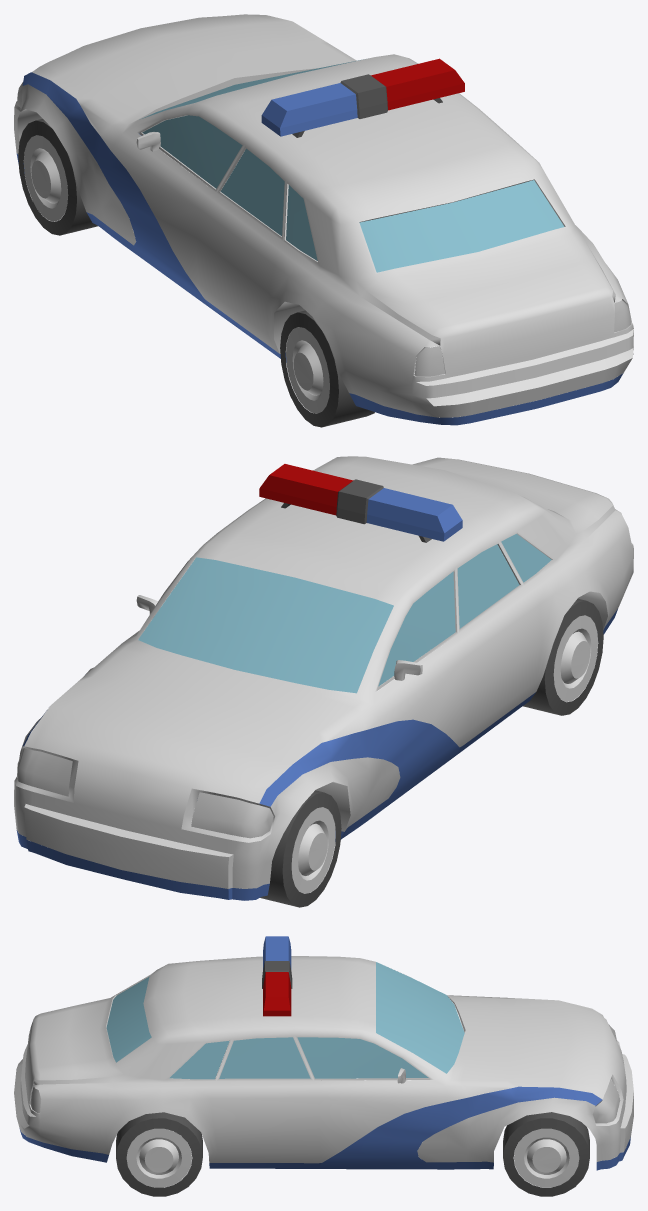
File: car13.glb
3 views of the same model, one above another, from view 1: azimuth 30°, elevation 25°; view 2: azimuth 150°, elevation 25°; view 3: azimuth 270°, elevation 25° (orthographic). The views are drawn at different scales.
Parts seen in each view (by area): view 1: JC_Ke01_, JC_Glass_, JC_Ke02_, JC_Lun01_, JC_Lun02_, JC_Light02_, JC_Light01_, JC_Ke03_, JC_Light03_; view 2: JC_Ke01_, JC_Glass_, JC_Ke02_, JC_Lun01_, JC_Lun02_, JC_Light03_, JC_Light02_, JC_Light01_, JC_Ke03_; view 3: JC_Ke01_, JC_Glass_, JC_Ke02_, JC_Lun01_, JC_Lun02_, JC_Light01_, JC_Light03_, JC_Light02_, JC_Ke03_.
Boxes of the visible parts, x1,y1,x2,y2 form: JC_Ke01_: (14, 14, 633, 417); JC_Glass_: (139, 59, 564, 272); JC_Ke02_: (16, 72, 623, 425); JC_Lun01_: (18, 119, 374, 427); JC_Lun02_: (23, 135, 329, 413); JC_Light02_: (261, 83, 357, 136); JC_Light01_: (371, 58, 464, 110); JC_Ke03_: (292, 74, 442, 137); JC_Light03_: (17, 82, 631, 376); JC_Ke01_: (14, 456, 633, 888); JC_Glass_: (138, 534, 551, 693); JC_Ke02_: (16, 609, 617, 900); JC_Lun01_: (260, 598, 603, 907); JC_Lun02_: (291, 615, 598, 893); JC_Light03_: (17, 748, 273, 838); JC_Light02_: (366, 488, 462, 541); JC_Light01_: (259, 464, 353, 515); JC_Ke03_: (281, 479, 431, 542); JC_Ke01_: (14, 956, 633, 1163); JC_Glass_: (106, 962, 464, 1079); JC_Ke02_: (19, 1086, 630, 1170); JC_Lun01_: (116, 1112, 589, 1196); JC_Lun02_: (126, 1128, 579, 1187); JC_Light01_: (263, 972, 291, 1016); JC_Light03_: (30, 1025, 620, 1123); JC_Light02_: (263, 936, 291, 969); JC_Ke03_: (262, 961, 292, 988).
Size of the model in its own units: 1.84 by 1.53 by 4.7.
